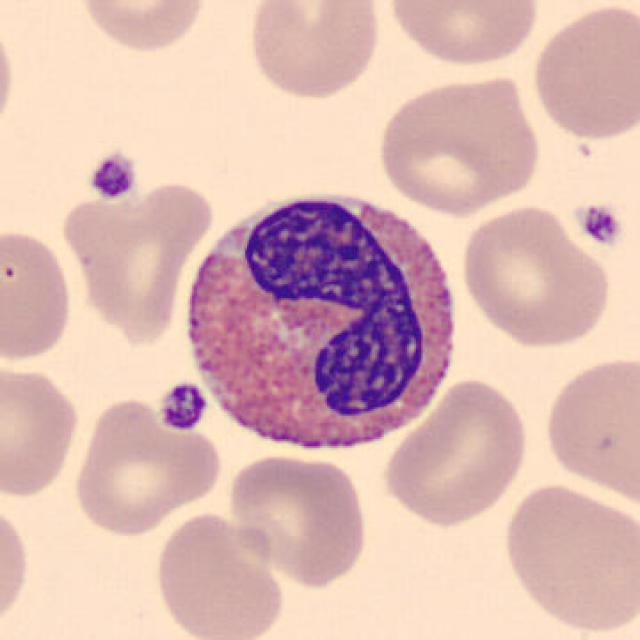Eosinophil: (172, 169, 473, 473)
Platelets: (156, 379, 210, 434), (86, 150, 140, 203), (576, 201, 626, 249)
RBC: (57, 174, 215, 346), (372, 68, 544, 218), (455, 201, 615, 351), (379, 374, 533, 529), (69, 395, 224, 538), (498, 479, 638, 636), (224, 451, 372, 587), (151, 509, 288, 640), (538, 350, 640, 509), (526, 1, 638, 144), (243, 0, 385, 102), (0, 360, 84, 499), (382, 0, 544, 69), (0, 225, 76, 365), (73, 0, 210, 55), (0, 496, 34, 636), (0, 14, 20, 145)
